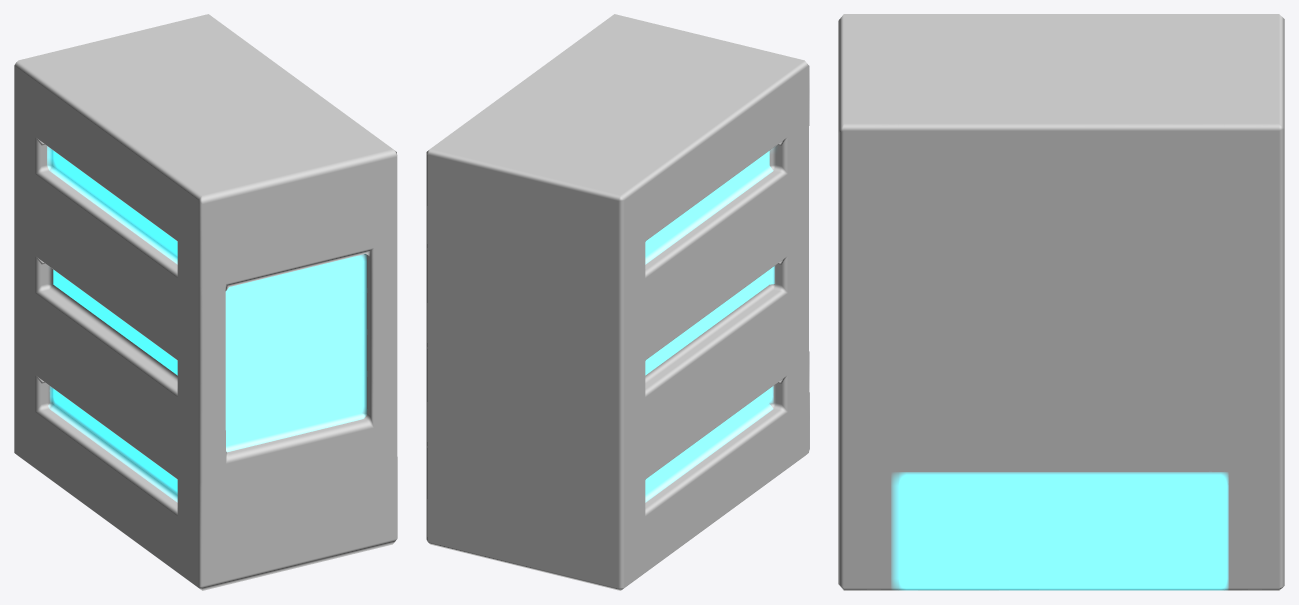
Rendered from SM_3DT_Wall_Prop_02.fbx.
3 views of the same model, side by side, from view 1: azimuth 30°, elevation 25°; view 2: azimuth 150°, elevation 25°; view 3: azimuth 270°, elevation 25° (orthographic). The views are drawn at different scales.
Parts seen in each view (by area): view 1: SM_3DT_Wall_Prop_02; view 2: SM_3DT_Wall_Prop_02; view 3: SM_3DT_Wall_Prop_02.
Boxes of the visible parts, x1,y1,x2,y2 form: SM_3DT_Wall_Prop_02: (14, 14, 397, 590); SM_3DT_Wall_Prop_02: (426, 14, 809, 590); SM_3DT_Wall_Prop_02: (838, 14, 1284, 590).
Bounding box in the file's own units: 20.06 × 38.21 × 33.08.
